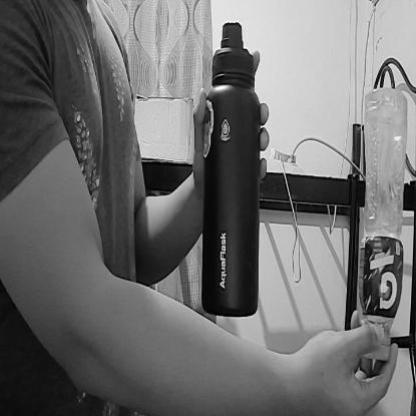Plastic Bottle: (364, 76, 405, 386)
